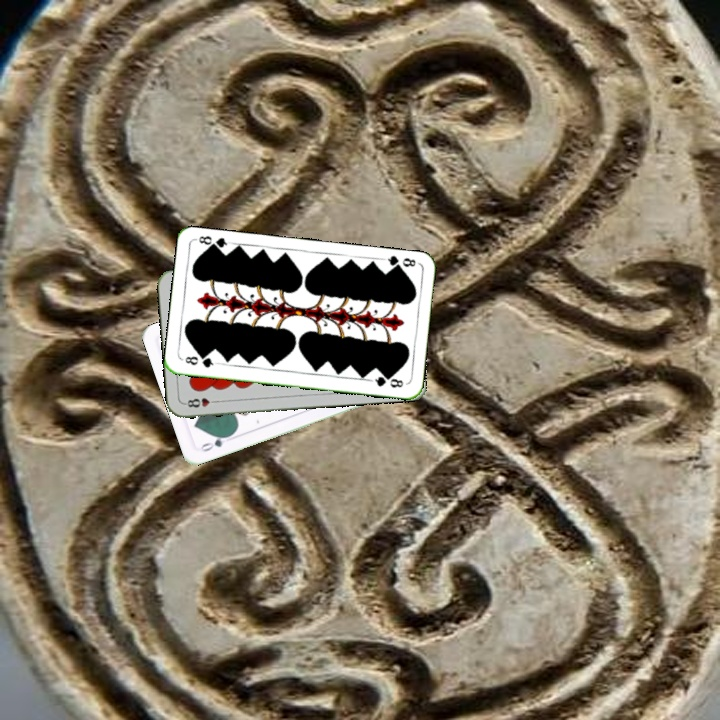G8: (380, 252, 420, 273), (181, 352, 220, 370)
GO: (196, 431, 234, 454)
H8: (181, 394, 222, 410)
